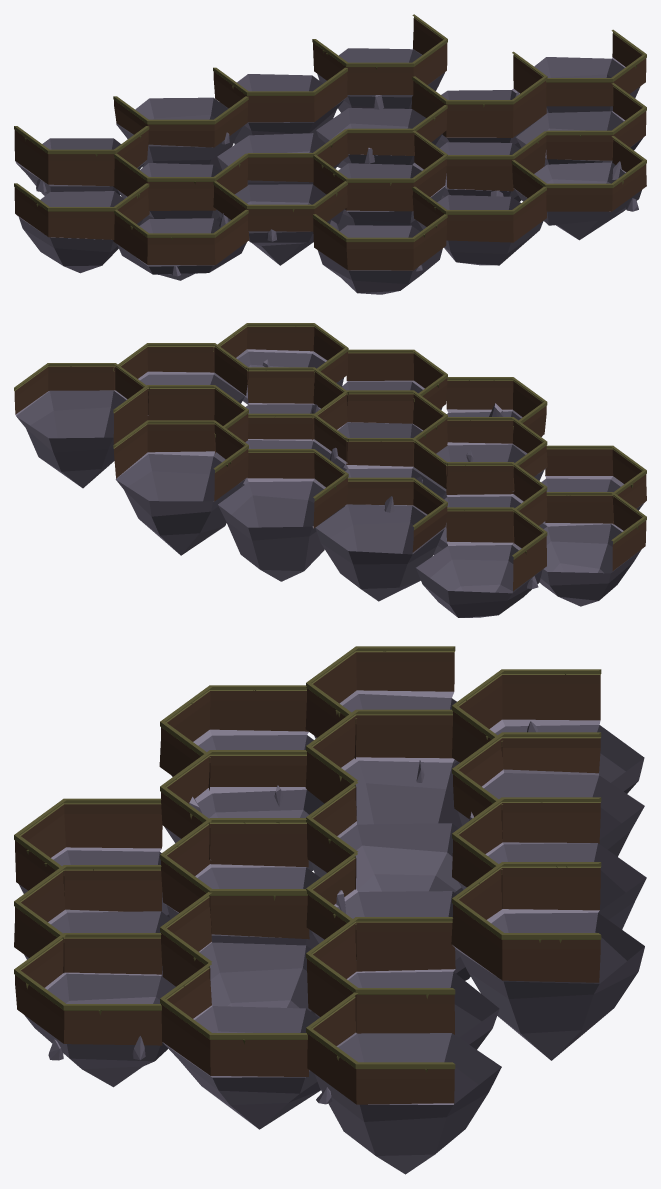
File: island_socket_left.glb
The picture shows the model from 3 angles, top to bottom: view 1: azimuth 30°, elevation 25°; view 2: azimuth 150°, elevation 25°; view 3: azimuth 270°, elevation 25°; orthographic projection. The views are drawn at different scales.
Parts seen in each view (by area): view 1: island_socket_left_mesh; view 2: island_socket_left_mesh; view 3: island_socket_left_mesh.
Boxes of the visible parts, bbox=[...] form: island_socket_left_mesh: bbox=[14, 14, 646, 294]; island_socket_left_mesh: bbox=[14, 323, 646, 617]; island_socket_left_mesh: bbox=[14, 646, 646, 1174].
Size of the model in its own units: 11.52 by 2.33 by 7.15.
